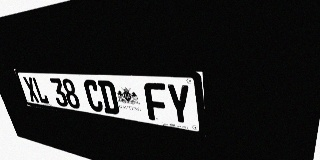3: (49, 78, 69, 107)
8: (61, 78, 81, 109)
C: (82, 79, 104, 113)
D: (97, 80, 120, 115)
F: (143, 82, 169, 123)
L: (31, 77, 50, 104)
X: (22, 77, 40, 103)
Y: (165, 83, 193, 126)
